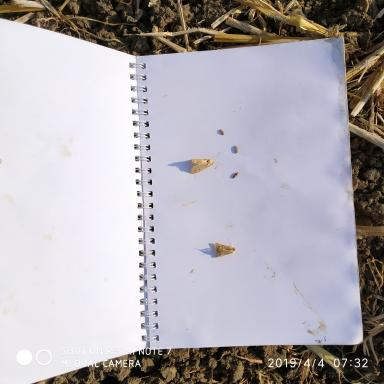abw: (189, 150, 222, 177), (213, 235, 241, 261)
